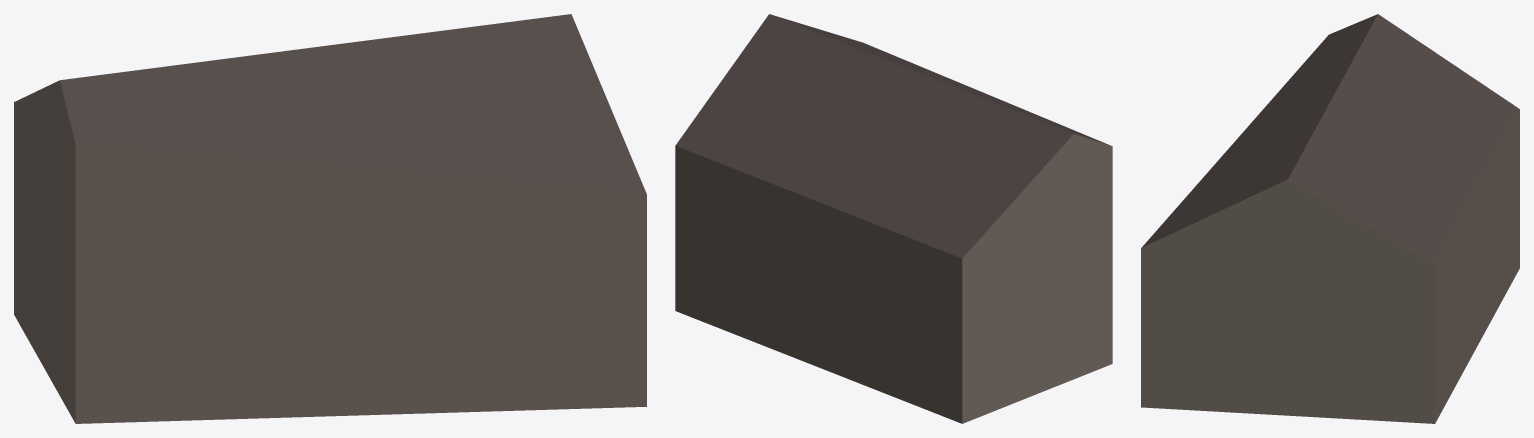
3 views of the same model, side by side, from view 1: azimuth 30°, elevation 25°; view 2: azimuth 150°, elevation 25°; view 3: azimuth 270°, elevation 25° (orthographic). The views are drawn at different scales.
Parts seen in each view (by area): view 1: HP-w1515071135; view 2: HP-w1515071135; view 3: HP-w1515071135.
Part boxes in pixels (bbox=[...]): HP-w1515071135: bbox=[14, 14, 646, 423]; HP-w1515071135: bbox=[675, 14, 1112, 423]; HP-w1515071135: bbox=[1141, 14, 1519, 423].
Size of the model in its own units: 14.51 by 8.91 by 12.93.
